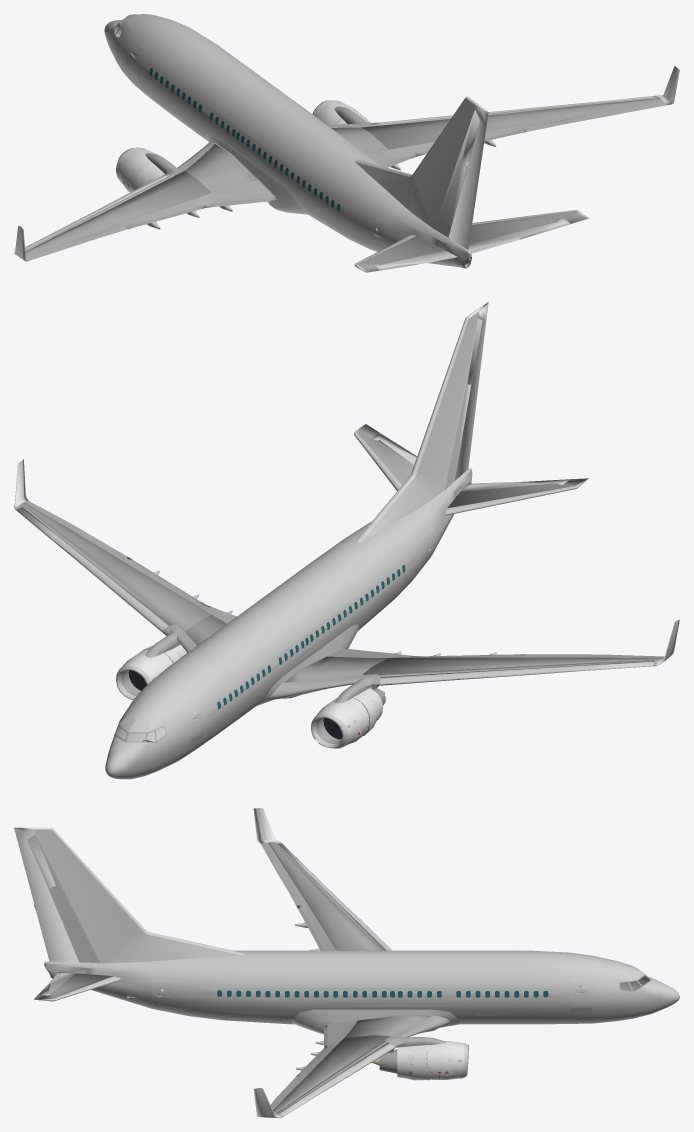
3 renders of one model, top to bottom at view 1: azimuth 30°, elevation 25°; view 2: azimuth 150°, elevation 25°; view 3: azimuth 270°, elevation 25°, orthographic. The views are drawn at different scales.
Parts seen in each view (by area): view 1: fuselage, vstab, obwing_001, obwing, rudder, winginbd, rhstab, lhstab, lhfairing, engnose_001, windowslh, panel1upper (+11 smaller); view 2: fuselage, vstab, obwing_001, obwing, lhstab, rhstab, winginbd, rudder, vstable, engnose_001, ible, lhfairing (+4 smaller); view 3: fuselage, vstab, obwing, rudder, obwing_001, rhwtobfairing, No2engfancase, winginbd_001, windowsrh, rhstab, No2reverser, vstable (+5 smaller).
Part boxes in pixels (x1=…): fuselage: x1=104, y1=14, x2=471, y2=267; vstab: x1=355, y1=96, x2=488, y2=237; obwing_001: x1=362, y1=98, x2=662, y2=149; obwing: x1=25, y1=170, x2=211, y2=255; rudder: x1=448, y1=106, x2=488, y2=249; winginbd: x1=185, y1=143, x2=258, y2=192; rhstab: x1=469, y1=210, x2=589, y2=244; lhstab: x1=354, y1=235, x2=445, y2=272; lhfairing: x1=205, y1=133, x2=307, y2=214; engnose_001: x1=116, y1=148, x2=156, y2=192; windowslh: x1=149, y1=68, x2=340, y2=211; panel1upper: x1=198, y1=180, x2=275, y2=205; fuselage: x1=105, y1=468, x2=472, y2=779; vstab: x1=362, y1=302, x2=488, y2=541; obwing_001: x1=21, y1=502, x2=211, y2=631; obwing: x1=362, y1=657, x2=662, y2=674; lhstab: x1=445, y1=478, x2=588, y2=515; rhstab: x1=354, y1=424, x2=413, y2=491; winginbd: x1=283, y1=656, x2=387, y2=682; rudder: x1=454, y1=304, x2=488, y2=480; vstable: x1=355, y1=317, x2=468, y2=542; engnose_001: x1=316, y1=698, x2=369, y2=748; ible: x1=268, y1=674, x2=375, y2=700; lhfairing: x1=257, y1=624, x2=359, y2=705; fuselage: x1=44, y1=950, x2=679, y2=1024; vstab: x1=14, y1=827, x2=240, y2=963; obwing: x1=268, y1=842, x2=380, y2=950; rudder: x1=14, y1=829, x2=78, y2=961; obwing_001: x1=273, y1=1035, x2=390, y2=1113; rhwtobfairing: x1=291, y1=1009, x2=459, y2=1034; No2engfancase: x1=427, y1=1041, x2=464, y2=1079; winginbd_001: x1=344, y1=1014, x2=432, y2=1037; windowsrh: x1=217, y1=990, x2=548, y2=997; rhstab: x1=34, y1=973, x2=121, y2=1001; No2reverser: x1=397, y1=1045, x2=429, y2=1080; vstable: x1=51, y1=827, x2=245, y2=955.
Bounding box in the file's own units: 34.85 × 34.93 × 12.08.
